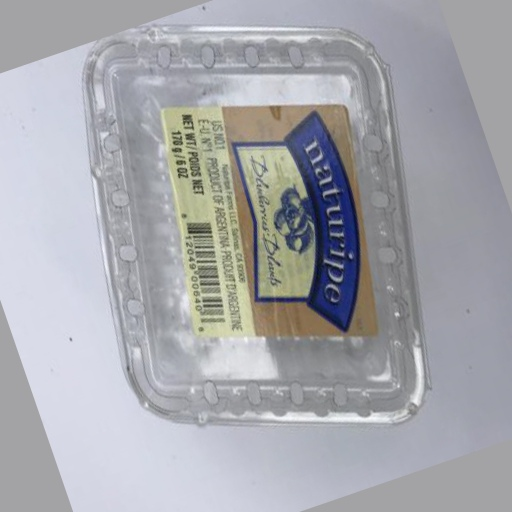Plastic_4: (83, 22, 431, 431)
